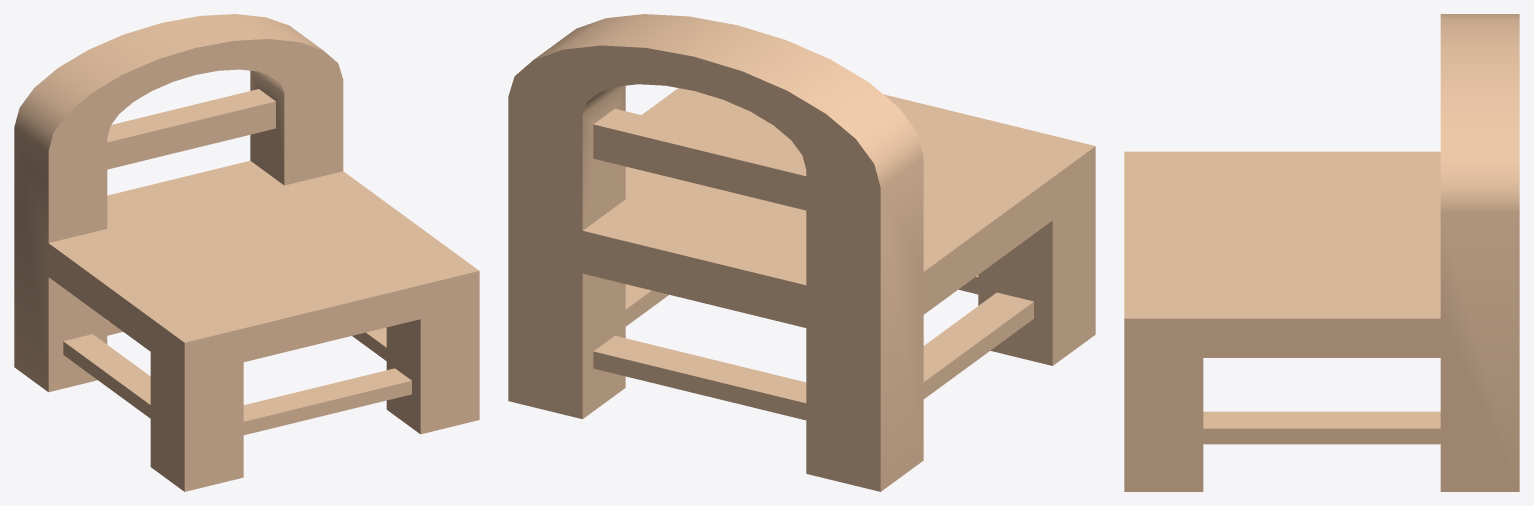
File: kn-chair-rounded.glb
3 renders of one model, left to right at view 1: azimuth 30°, elevation 25°; view 2: azimuth 150°, elevation 25°; view 3: azimuth 270°, elevation 25°, orthographic. The views are drawn at different scales.
Visible parts, largest first — view 1: chairRounded(Clone); view 2: chairRounded(Clone); view 3: chairRounded(Clone).
Part boxes in pixels (box(x1,y1,x2,y2)): chairRounded(Clone): box(14, 14, 479, 491); chairRounded(Clone): box(508, 14, 1095, 491); chairRounded(Clone): box(1124, 14, 1519, 491).
Size of the model in its own units: 1 by 1 by 1.
